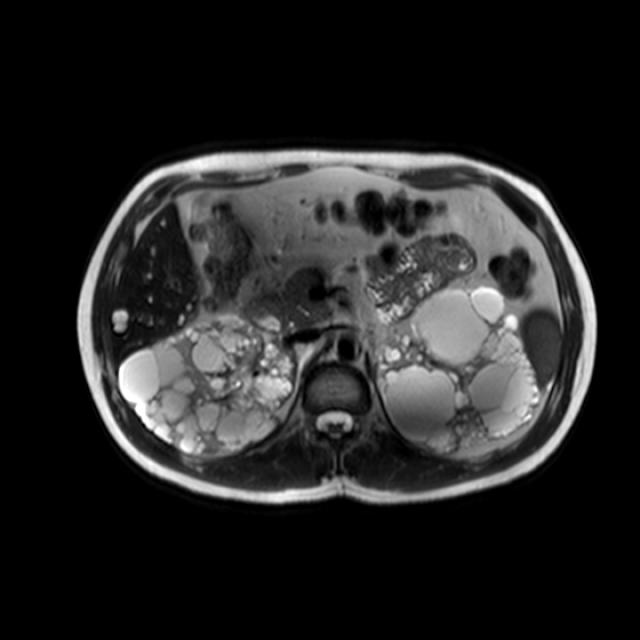sag: (117, 312, 300, 460)
sol: (375, 283, 537, 459)
